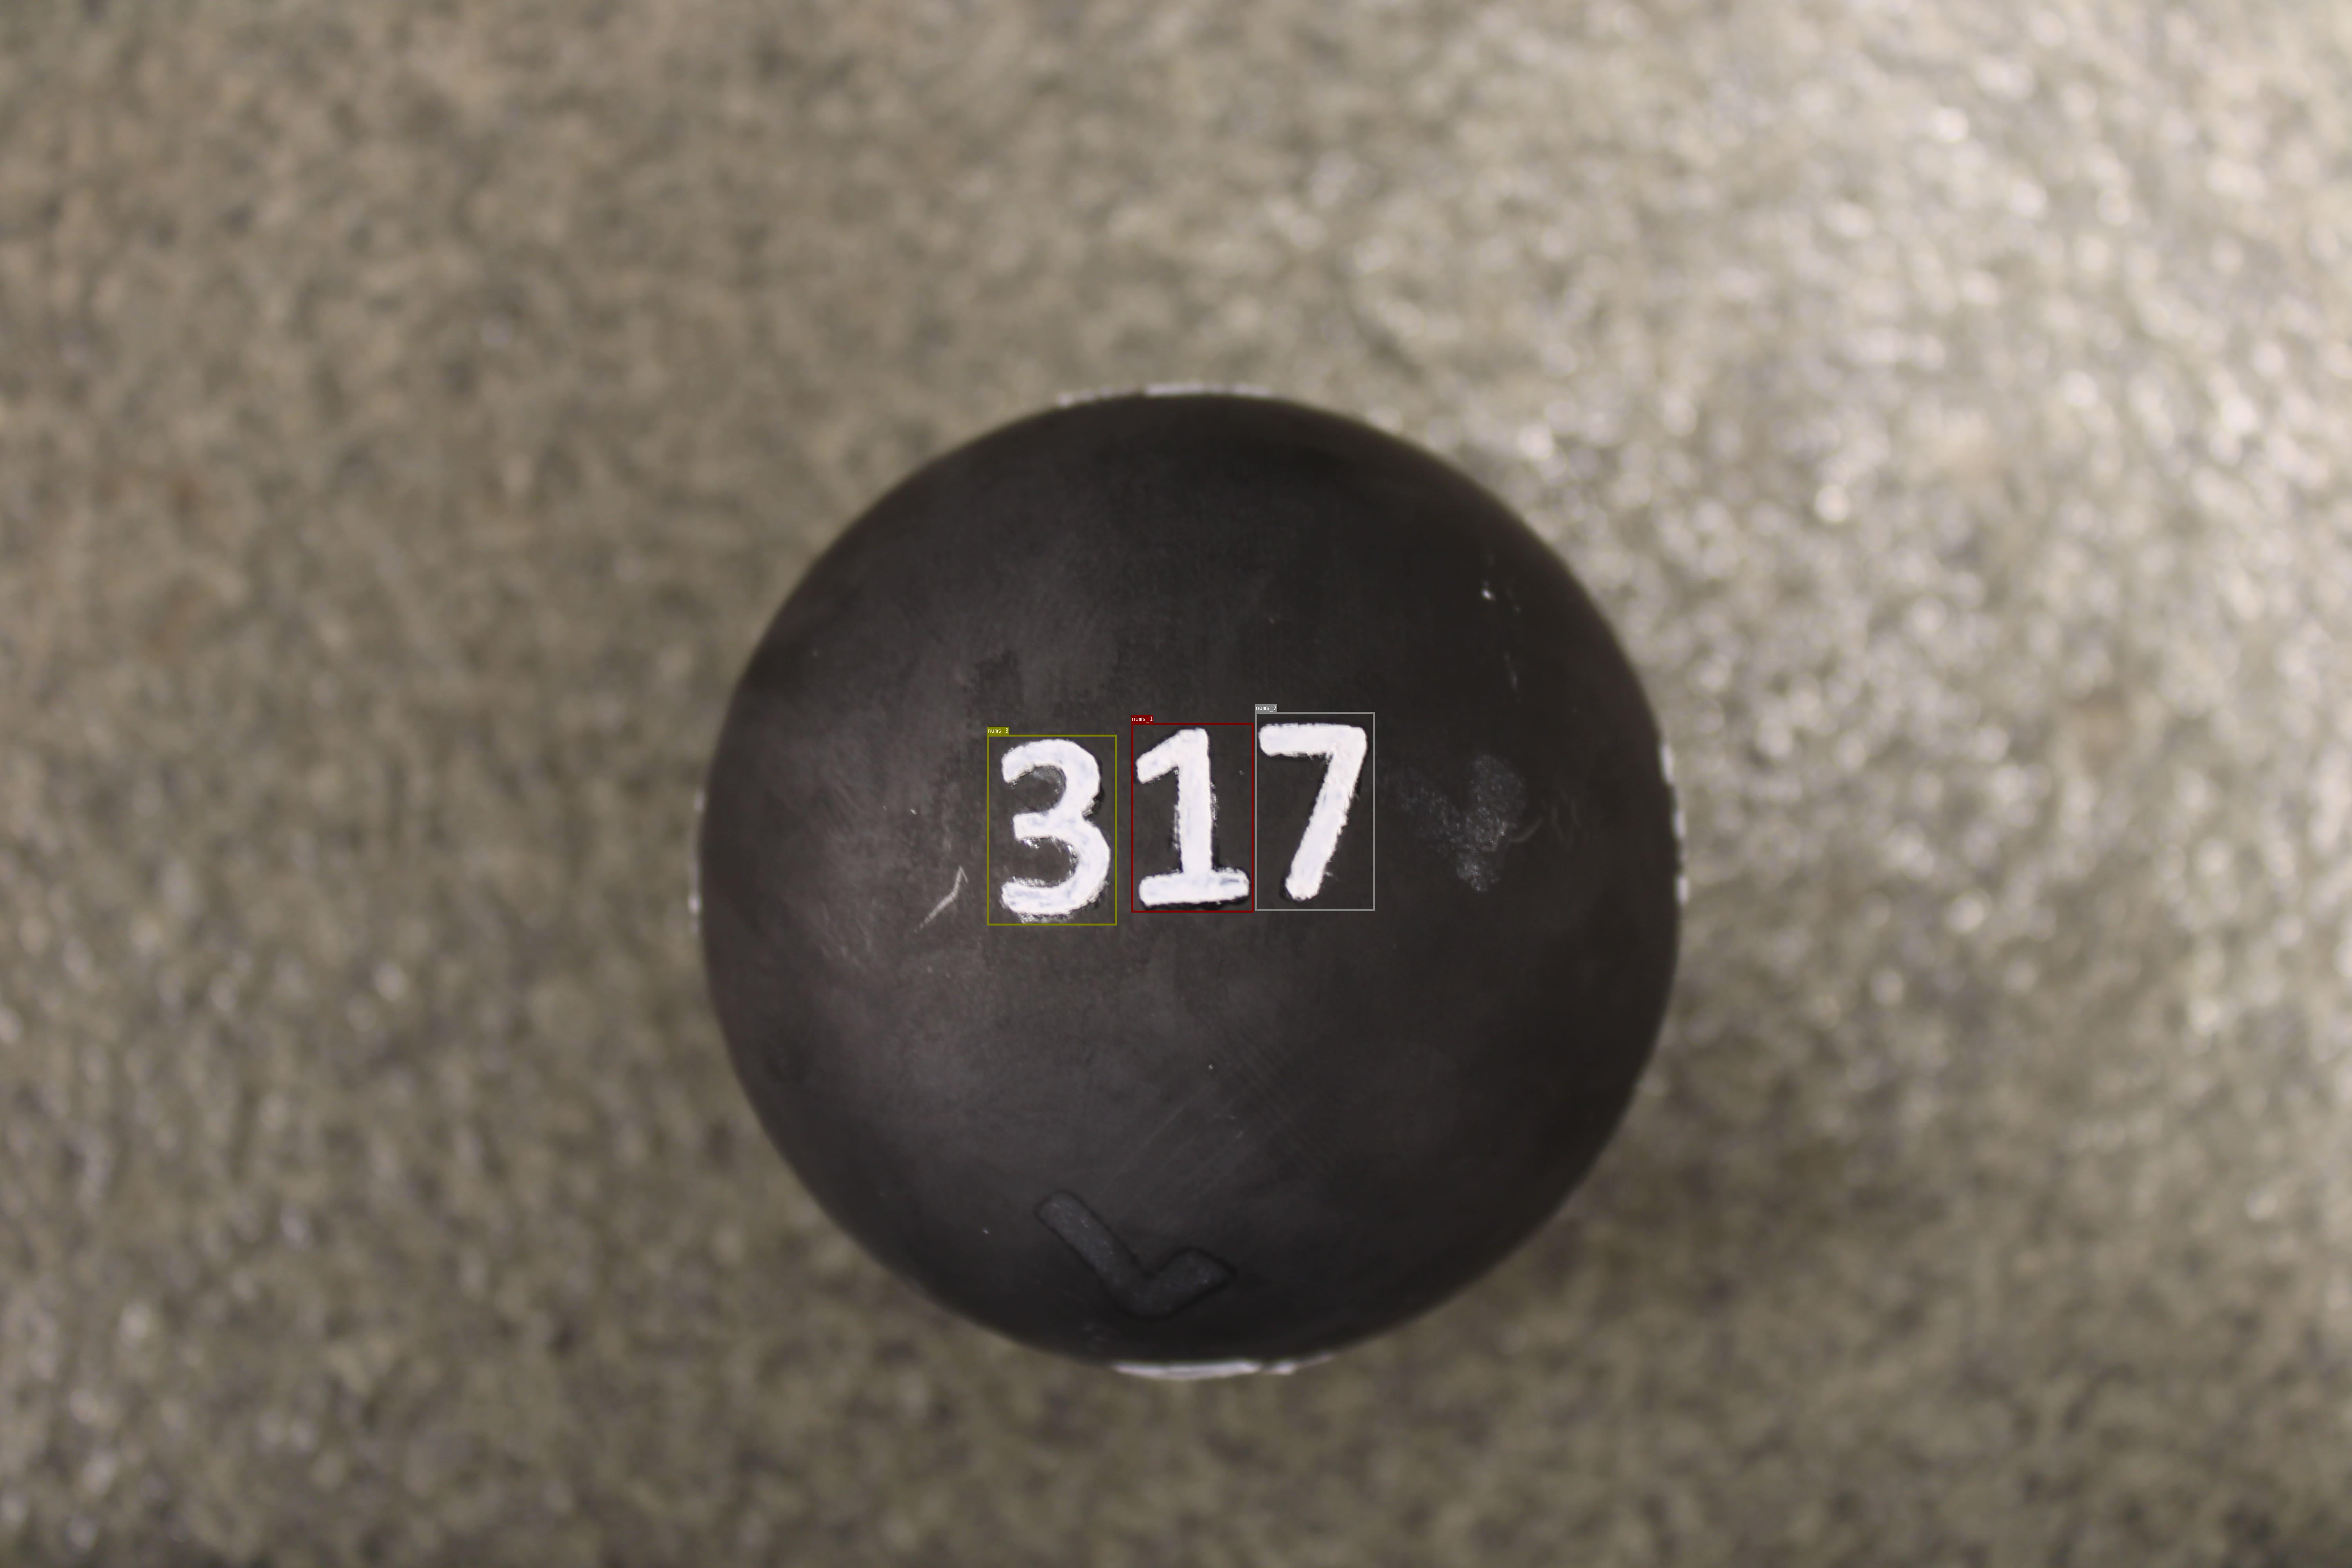nums_1: (1130, 723, 1253, 912)
nums_3: (987, 735, 1116, 926)
nums_7: (1255, 712, 1374, 910)
